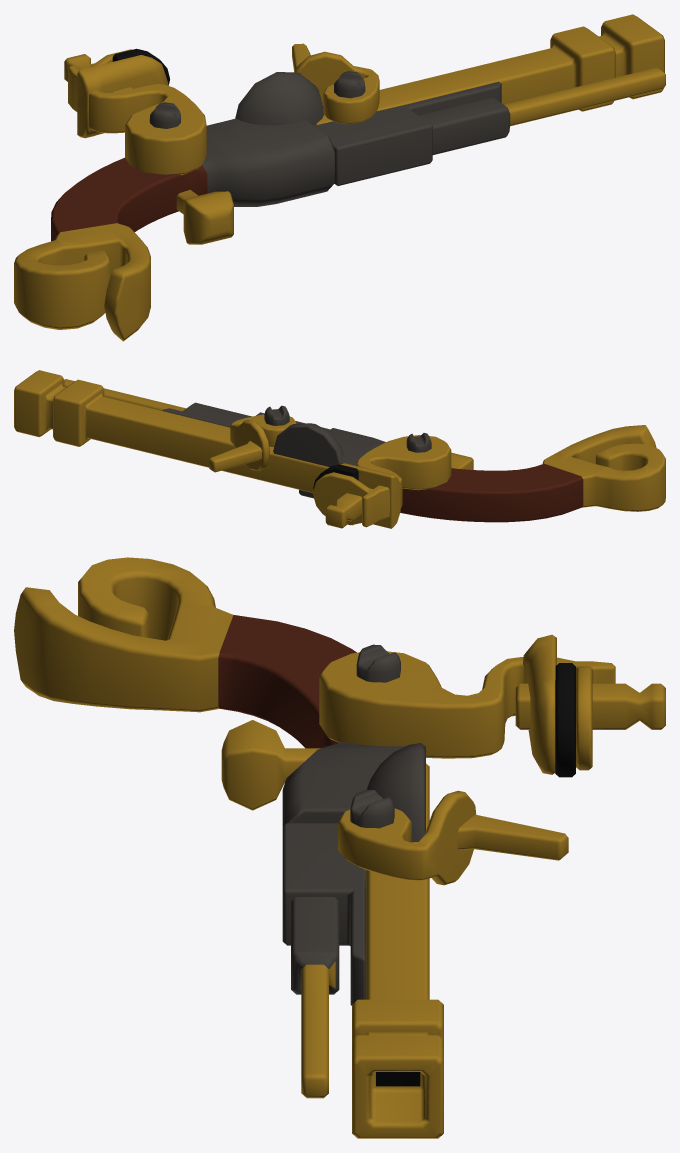
The model's file is Admiral_FlintlockGunOrigo.fbx.
The picture shows the model from 3 angles, top to bottom: view 1: azimuth 30°, elevation 25°; view 2: azimuth 150°, elevation 25°; view 3: azimuth 270°, elevation 25°; orthographic projection. The views are drawn at different scales.
Visible parts, largest first — view 1: FlintlockGunOrigo; view 2: FlintlockGunOrigo; view 3: FlintlockGunOrigo.
Boxes of the visible parts, left/top/right/bottom form: FlintlockGunOrigo: left=14, top=14, right=665, bottom=341; FlintlockGunOrigo: left=14, top=370, right=665, bottom=528; FlintlockGunOrigo: left=14, top=557, right=665, bottom=1138.
Bounding box in the file's own units: 45.97 × 6.42 × 25.06.
